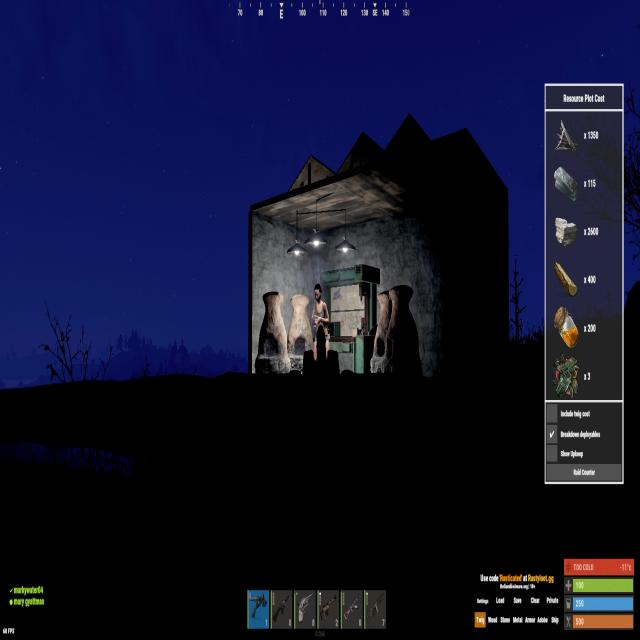Player: (311, 282, 331, 362)
